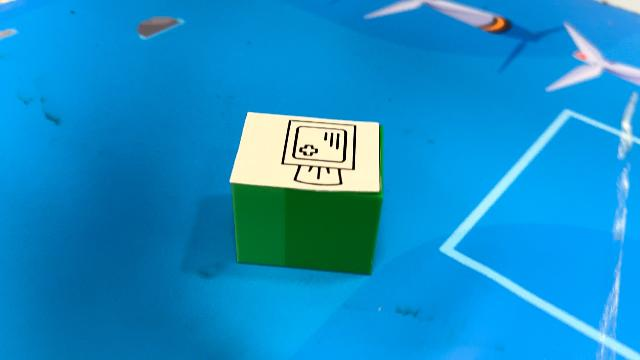napkin: (228, 108, 386, 276)
